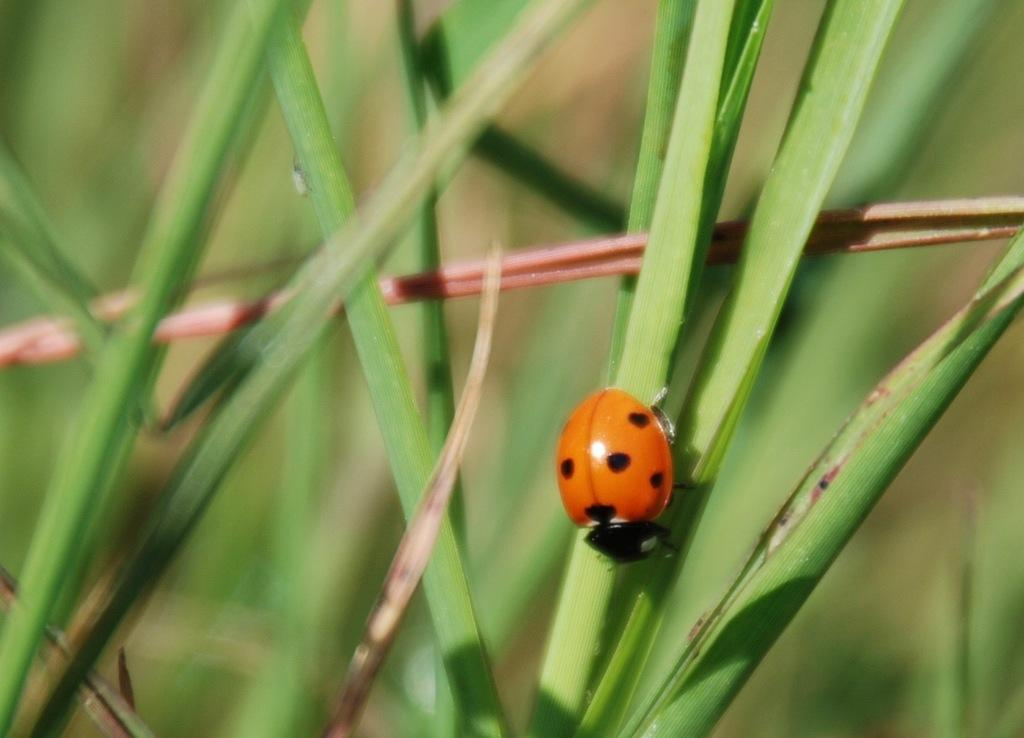ladybug: (553, 385, 701, 575)
